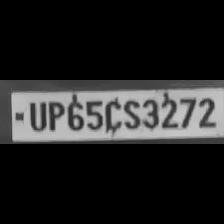2: (194, 96, 218, 128), (158, 96, 178, 130)
3: (141, 96, 159, 130)
5: (83, 97, 103, 131)
6: (64, 99, 84, 131)
7: (177, 95, 195, 129)
C: (103, 96, 121, 132)
P: (44, 99, 64, 131)
S: (120, 96, 140, 130)
U: (26, 99, 46, 131)
